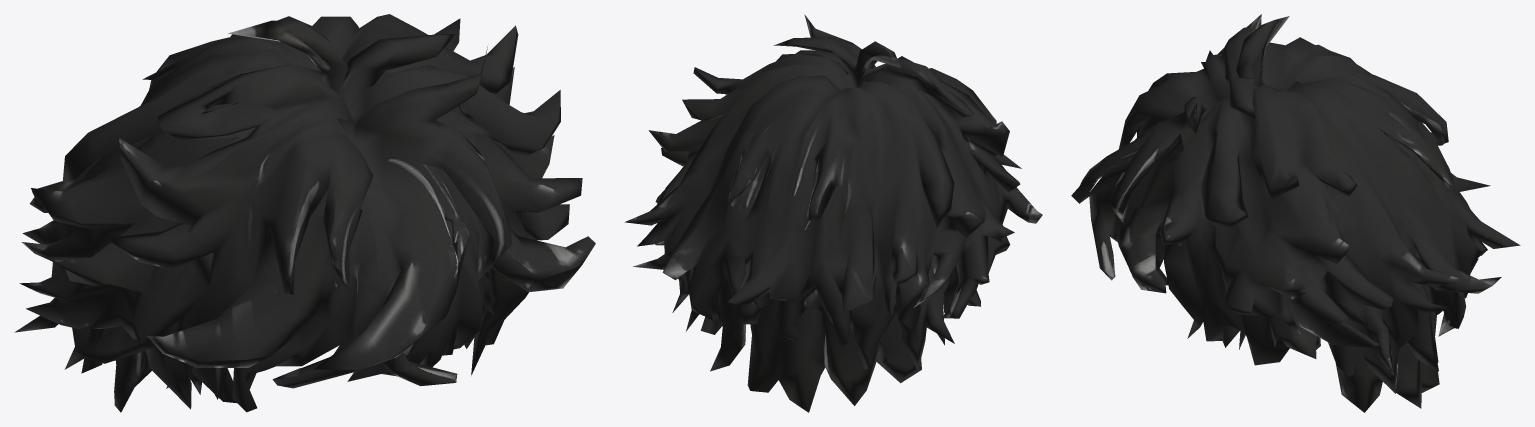
File: Cabelo-otimizado.glb
3 views of the same model, side by side, from view 1: azimuth 30°, elevation 25°; view 2: azimuth 150°, elevation 25°; view 3: azimuth 270°, elevation 25° (orthographic). The views are drawn at different scales.
Visible parts, largest first — view 1: tripo_node_8733102d-bb43-499b-9d77-adb981fa0bac; view 2: tripo_node_8733102d-bb43-499b-9d77-adb981fa0bac; view 3: tripo_node_8733102d-bb43-499b-9d77-adb981fa0bac.
Part boxes in pixels (x1,y1,x2,y2): tripo_node_8733102d-bb43-499b-9d77-adb981fa0bac: [14, 14, 595, 412]; tripo_node_8733102d-bb43-499b-9d77-adb981fa0bac: [624, 14, 1042, 412]; tripo_node_8733102d-bb43-499b-9d77-adb981fa0bac: [1071, 14, 1520, 412].
Size of the model in its own units: 0.989 by 0.8276 by 0.9869.
Materials: 1 (1 with a texture image).
